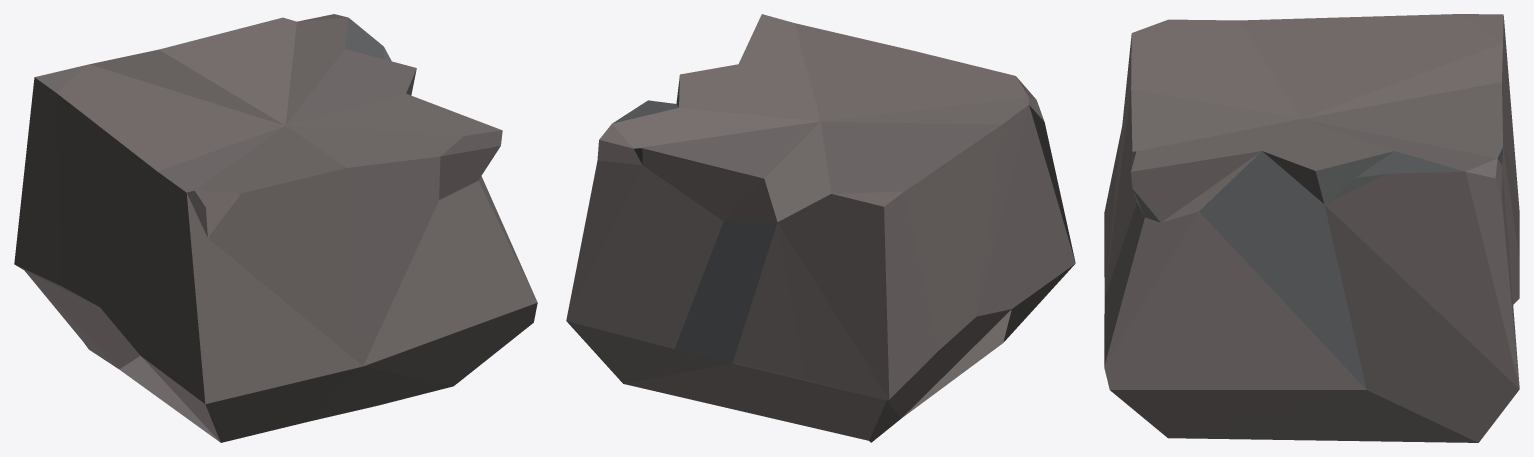
Rendered from Altar_03_half.FBX.
The picture shows the model from 3 angles, left to right: view 1: azimuth 30°, elevation 25°; view 2: azimuth 150°, elevation 25°; view 3: azimuth 270°, elevation 25°; orthographic projection. The views are drawn at different scales.
Visible parts, largest first — view 1: Altar_02_half; view 2: Altar_02_half; view 3: Altar_02_half.
Part boxes in pixels (bbox=[...]): Altar_02_half: bbox=[14, 14, 537, 442]; Altar_02_half: bbox=[566, 14, 1075, 442]; Altar_02_half: bbox=[1104, 14, 1519, 442].
Bounding box in the file's own units: 1.09 × 0.8347 × 1.08.
